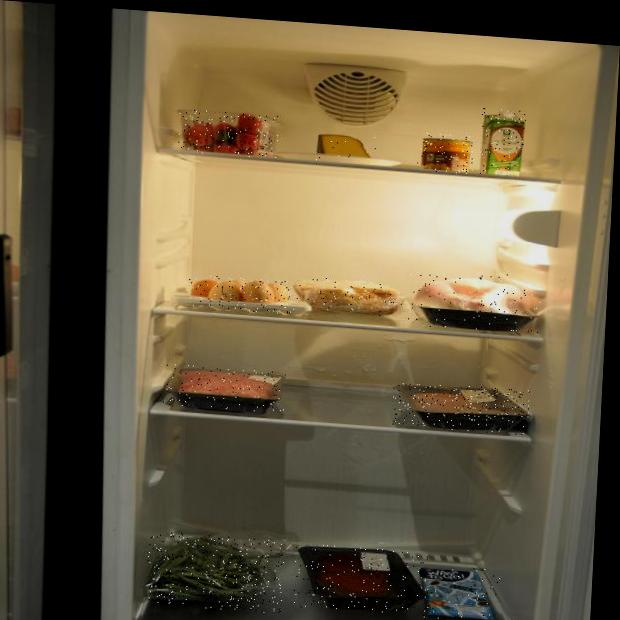beef: (293, 543, 431, 617)
bread: (289, 276, 405, 318)
cheese: (313, 132, 378, 168)
chicken: (407, 267, 542, 335)
chicken_breast: (392, 381, 530, 436)
chocolate: (415, 564, 500, 620)
corn: (417, 133, 475, 174)
eggs: (188, 274, 293, 315)
green_beans: (145, 531, 285, 614)
ground_beef: (163, 363, 287, 414)
heavy_cream: (479, 108, 526, 177)
strawberries: (178, 108, 280, 159)
